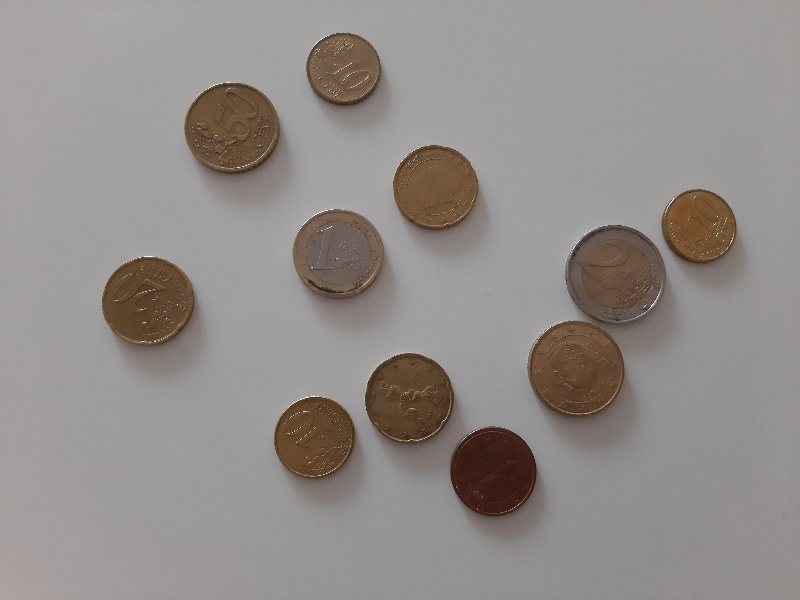1 euro: (291, 208, 386, 302)
10 cent: (273, 395, 356, 480), (661, 186, 738, 268), (304, 30, 383, 108)
2 euro: (563, 221, 668, 327)
20 cent: (101, 255, 197, 348), (362, 350, 455, 445), (391, 144, 481, 234)
5 cent: (449, 426, 538, 520)
50 cent: (525, 318, 627, 421), (181, 80, 283, 175)
